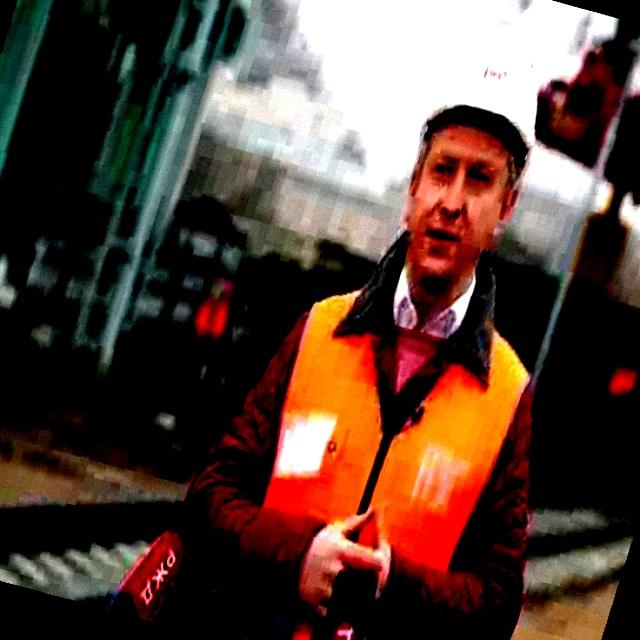helmet: (425, 56, 552, 156)
safety_vest: (261, 282, 538, 636)
